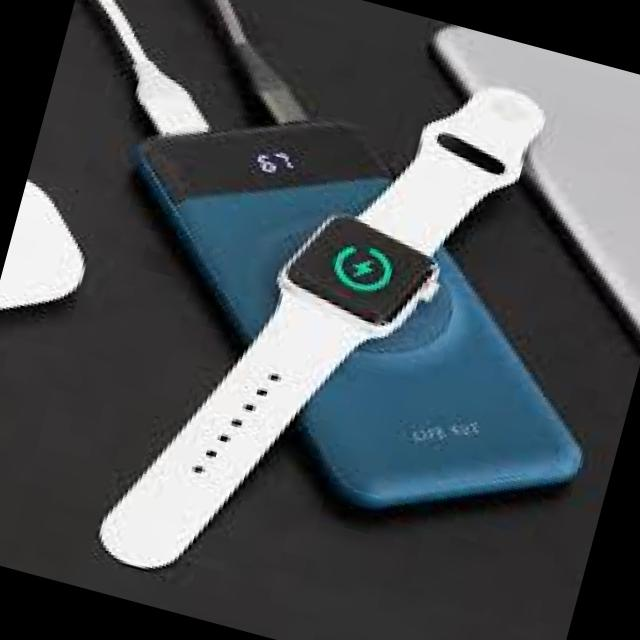power_bank: (54, 68, 640, 563)
